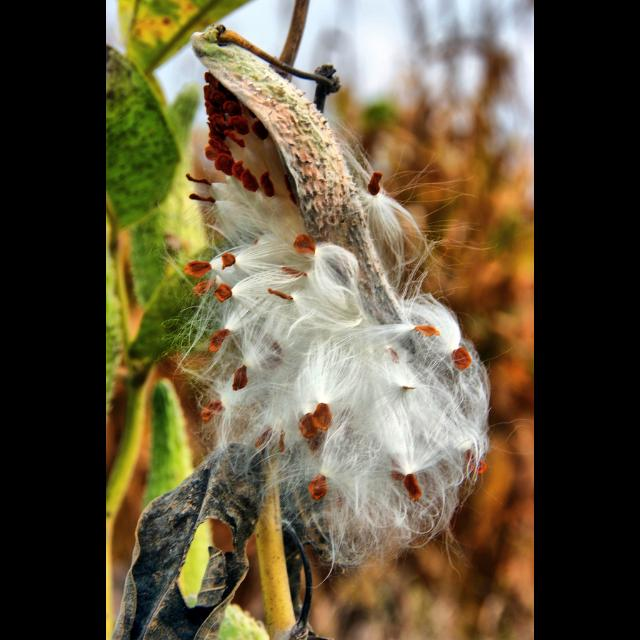Flower: (170, 118, 500, 590)
